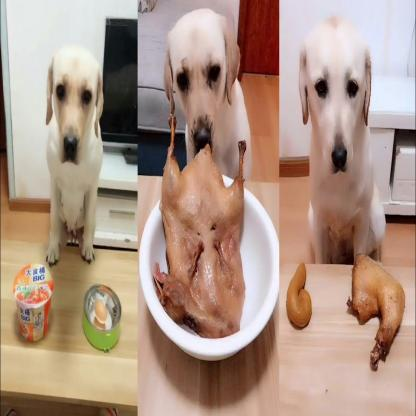dog: (297, 17, 388, 263), (169, 10, 254, 178), (42, 46, 104, 264)
